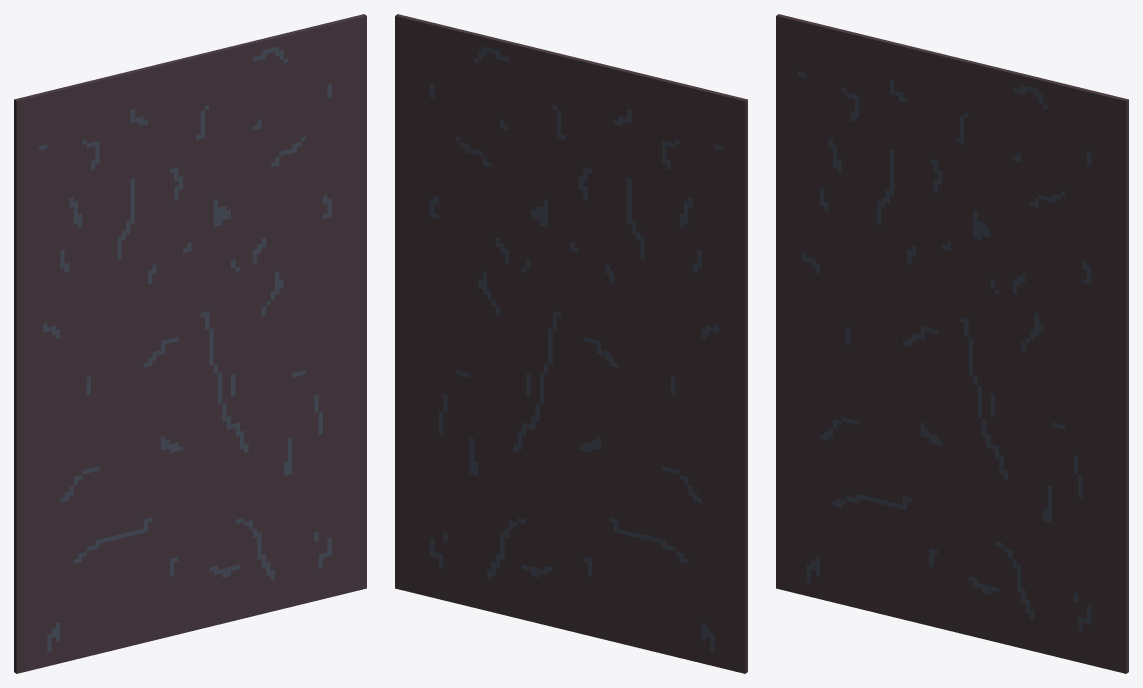
Rendered from techoRojoAzul.obj.
The picture shows the model from 3 angles, left to right: view 1: azimuth 30°, elevation 25°; view 2: azimuth 150°, elevation 25°; view 3: azimuth 330°, elevation 25°; orthographic projection.
Size of the model in its own units: 8 by 12.5 by 0.1.
1 material, 1 textured.
